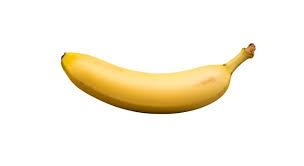non-mango: (60, 42, 256, 114)
